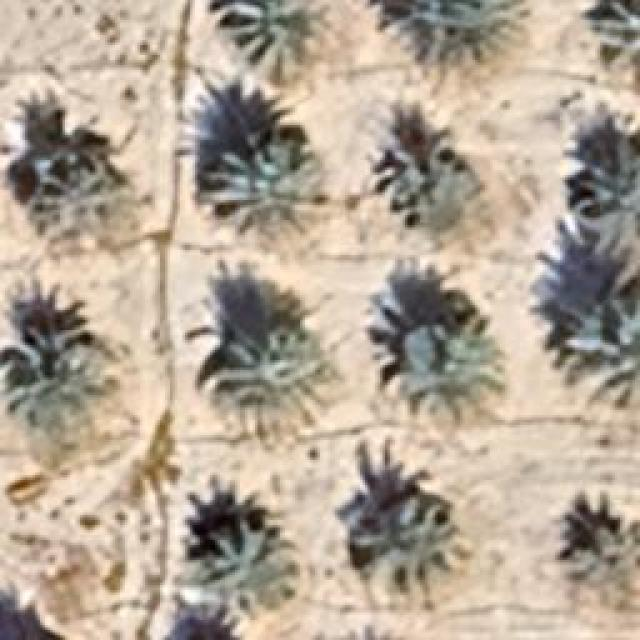PalmTree: (200, 140, 328, 242), (222, 314, 336, 422), (348, 497, 460, 605), (394, 320, 508, 415), (25, 145, 130, 243), (222, 0, 336, 88), (372, 122, 466, 228), (380, 0, 530, 65), (558, 292, 638, 410), (210, 520, 300, 615), (572, 145, 638, 260), (560, 518, 638, 610), (14, 322, 88, 388), (590, 0, 638, 80)
